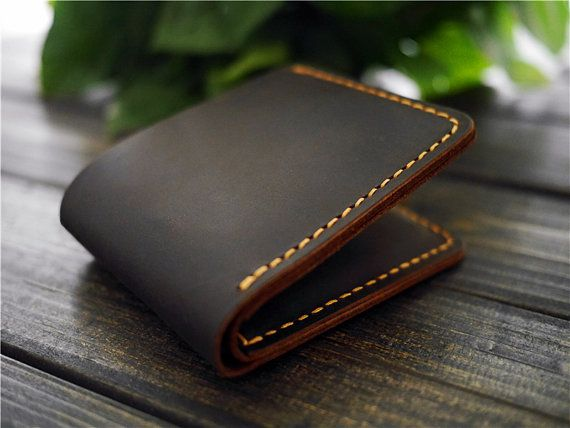monedero: (56, 61, 481, 380)
